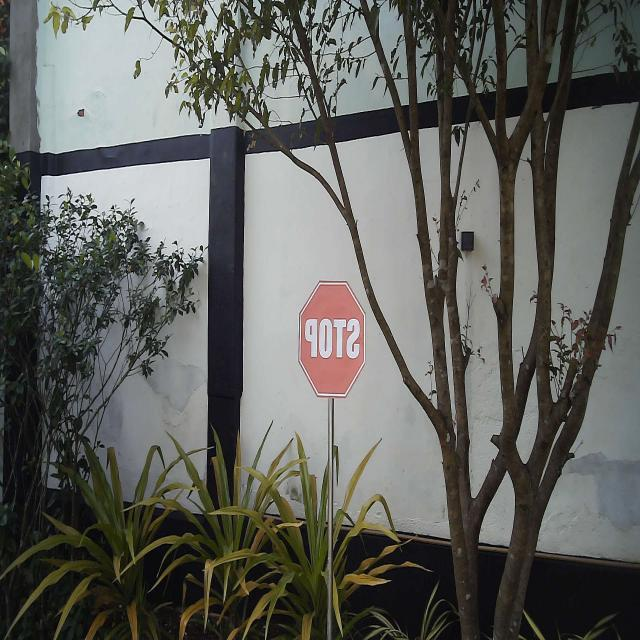stop: (296, 275, 367, 404)
